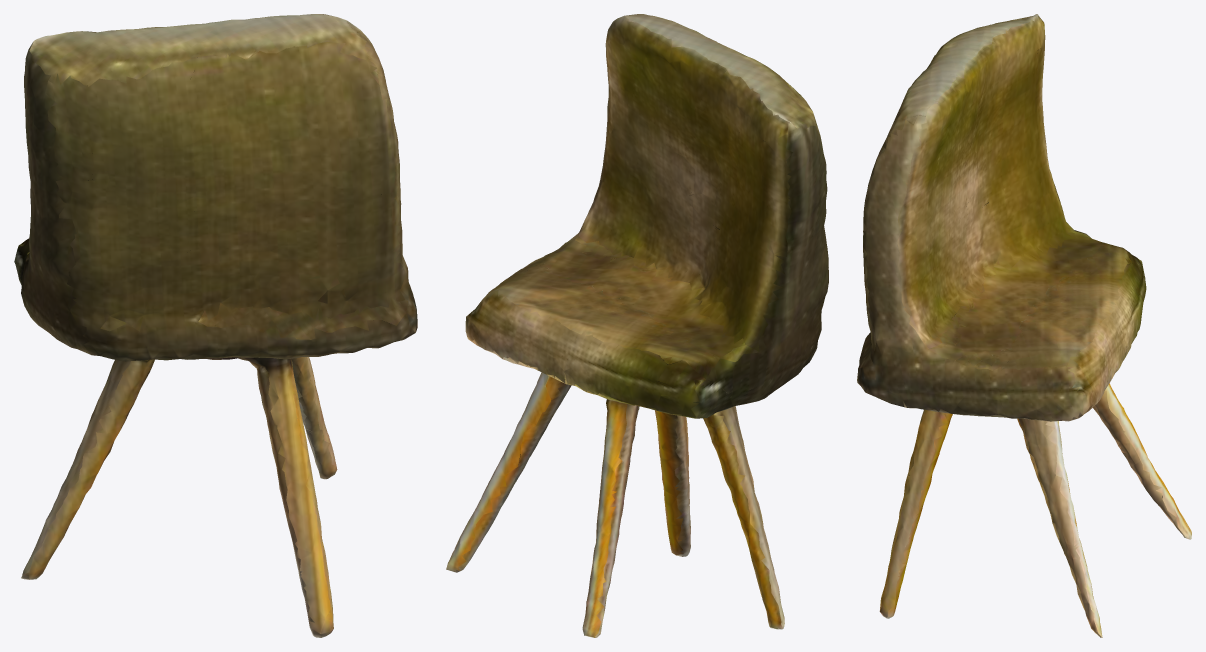
File: chair.glb
3 renders of one model, left to right at view 1: azimuth 30°, elevation 25°; view 2: azimuth 150°, elevation 25°; view 3: azimuth 270°, elevation 25°, orthographic. The views are drawn at different scales.
Visible parts, largest first — view 1: world; view 2: world; view 3: world.
Part boxes in pixels (left/top/right/bottom): world: left=14, top=14, right=417, bottom=637; world: left=446, top=14, right=828, bottom=637; world: left=857, top=14, right=1191, bottom=637.
Size of the model in its own units: 0.5886 by 0.9543 by 0.5474.
1 material, 1 textured.
